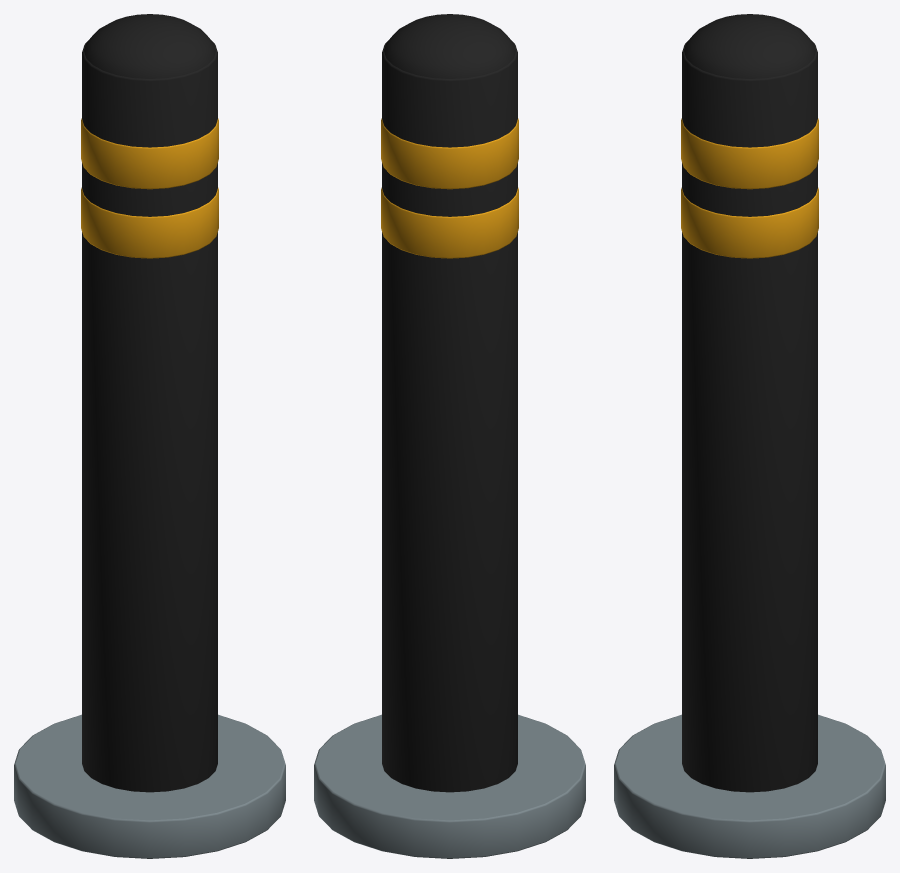
The model's file is OAA_Parking_Bollard.fbx.
3 views of the same model, side by side, from view 1: azimuth 30°, elevation 25°; view 2: azimuth 150°, elevation 25°; view 3: azimuth 270°, elevation 25° (orthographic).
Visible parts, largest first — view 1: Body; view 2: Body; view 3: Body.
Boxes of the visible parts, <box> form: Body: <box>14,14,285,858</box>; Body: <box>314,14,585,858</box>; Body: <box>614,14,885,858</box>.
Bounding box in the file's own units: 0.32 × 1.01 × 0.32.
